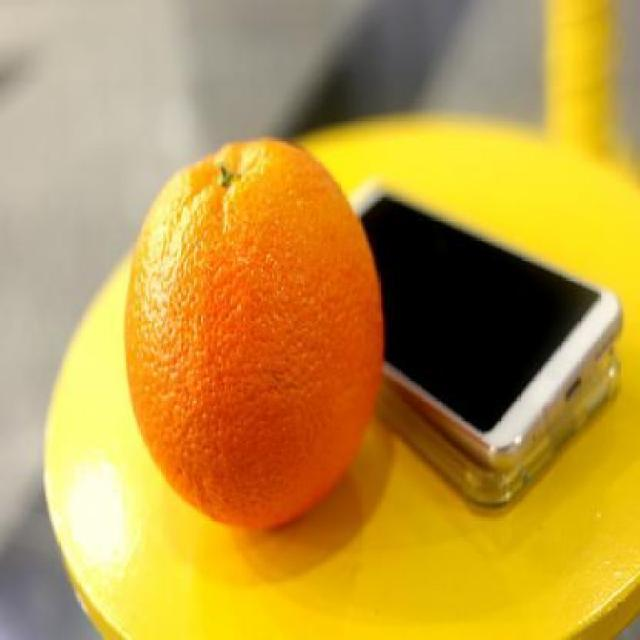Jeruk Sudah Matang: (124, 140, 383, 529)
